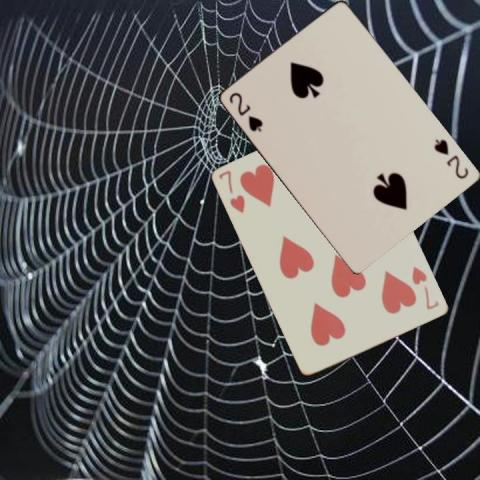2s: (430, 136, 469, 181), (225, 89, 264, 133)
7h: (409, 264, 441, 312), (216, 168, 247, 216)
